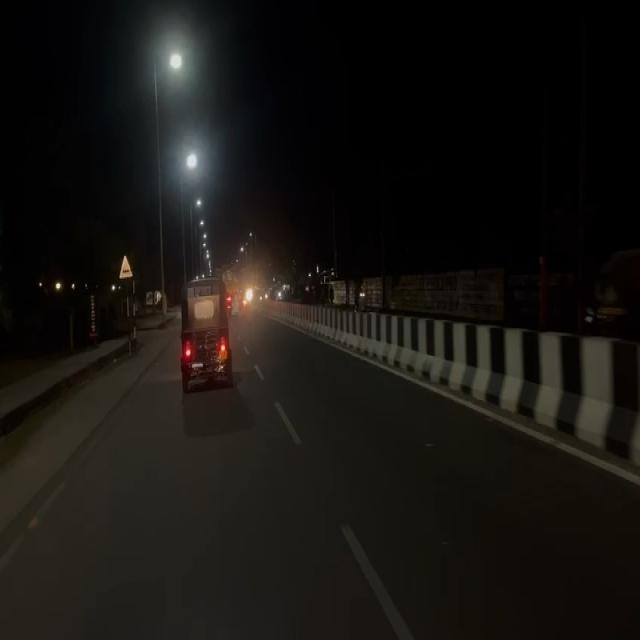bien_nguy_hiem: (119, 252, 133, 280)
